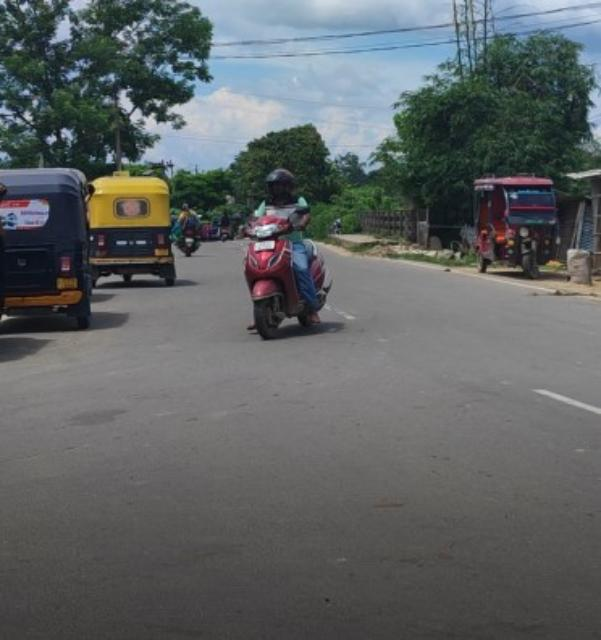licensePlate: (254, 241, 277, 250)
motorcycle: (245, 165, 333, 338)
withHelmet: (266, 169, 301, 204)
